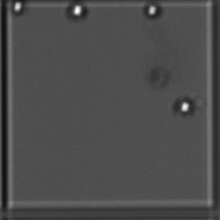Dead Cell: (147, 63, 170, 91)
Living Cell: (173, 94, 197, 123), (62, 1, 92, 22), (143, 1, 162, 21), (8, 1, 29, 16)
